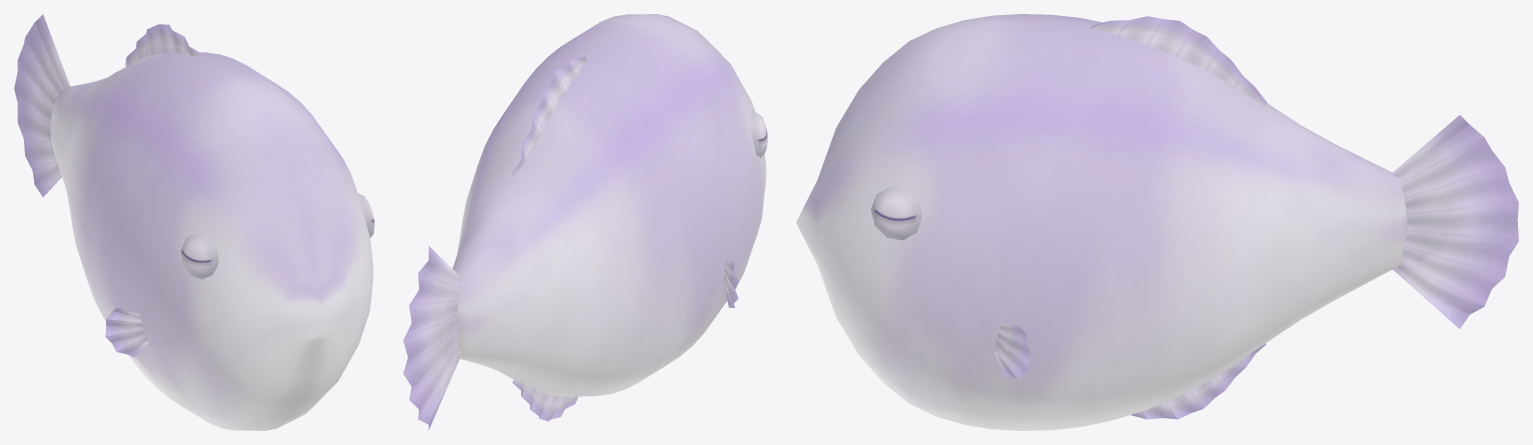
File: the-lull.glb
3 renders of one model, left to right at view 1: azimuth 30°, elevation 25°; view 2: azimuth 150°, elevation 25°; view 3: azimuth 270°, elevation 25°, orthographic. The views are drawn at different scales.
Parts seen in each view (by area): view 1: the-lull; view 2: the-lull; view 3: the-lull.
Part boxes in pixels (x1,y1,x2,y2): the-lull: (14, 14, 374, 430); the-lull: (403, 14, 767, 430); the-lull: (796, 14, 1518, 430).
Size of the model in its own units: 0.4491 by 0.6191 by 1.
1 material, 1 textured.
